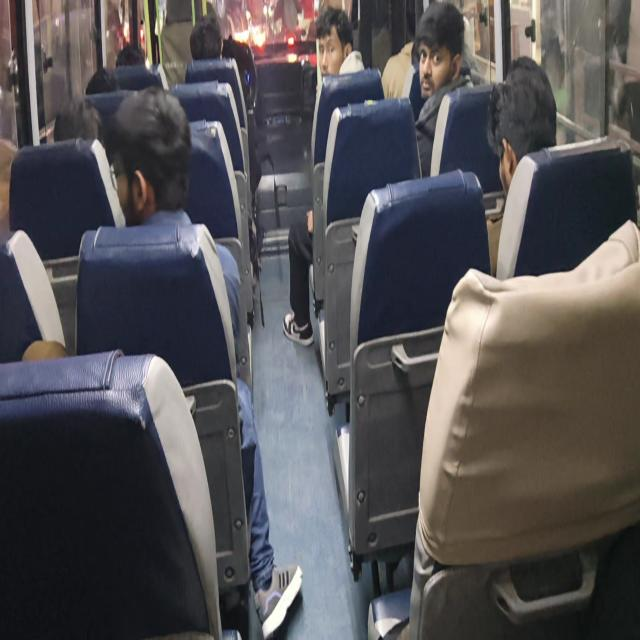person: (108, 102, 176, 206), (488, 78, 552, 164), (417, 12, 467, 102), (186, 0, 227, 58), (50, 119, 100, 158), (315, 25, 355, 70), (121, 28, 148, 77), (81, 62, 113, 103), (403, 18, 432, 53)
